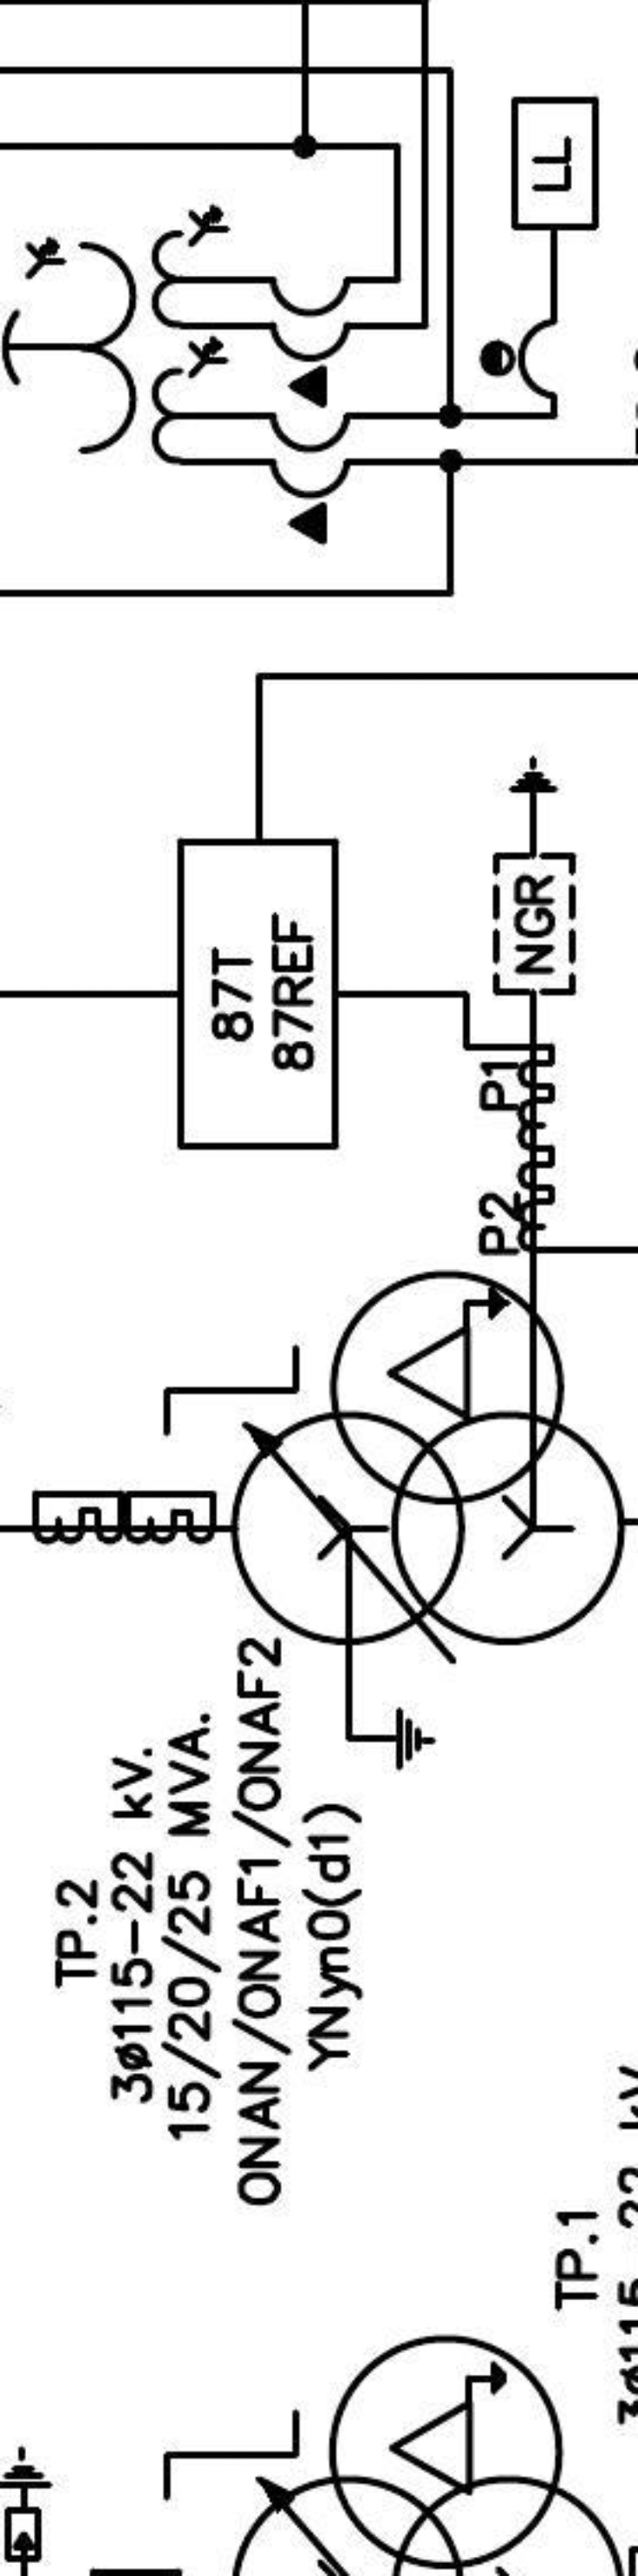11522_tx_ynyn0d1: (228, 1268, 628, 1648)
LL: (508, 94, 602, 232)
NGR_future: (492, 754, 577, 997)
